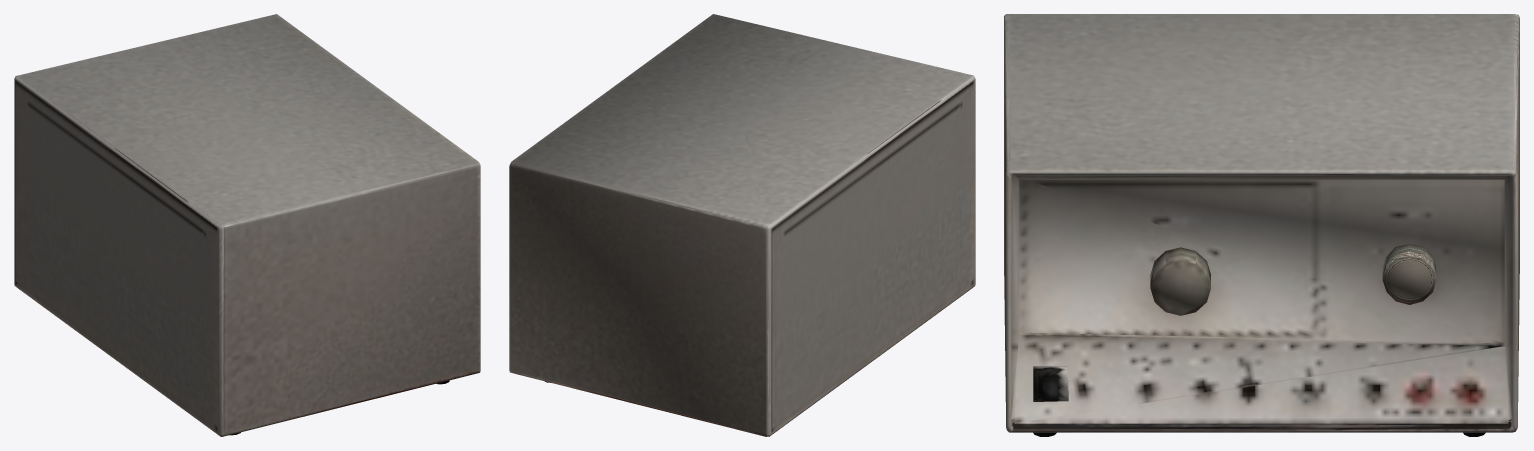
The model's file is may.fbx.
The picture shows the model from 3 angles, left to right: view 1: azimuth 30°, elevation 25°; view 2: azimuth 150°, elevation 25°; view 3: azimuth 270°, elevation 25°; orthographic projection. The views are drawn at different scales.
Parts seen in each view (by area): view 1: tripo_node_afd41c56; view 2: tripo_node_afd41c56; view 3: tripo_node_afd41c56.
Boxes of the visible parts, box(x1,y1,x2,y2) form: tripo_node_afd41c56: box(14, 14, 480, 436); tripo_node_afd41c56: box(509, 14, 975, 436); tripo_node_afd41c56: box(1004, 14, 1519, 436).
Bounding box in the file's own units: 0.7598 × 0.5918 × 0.998.
